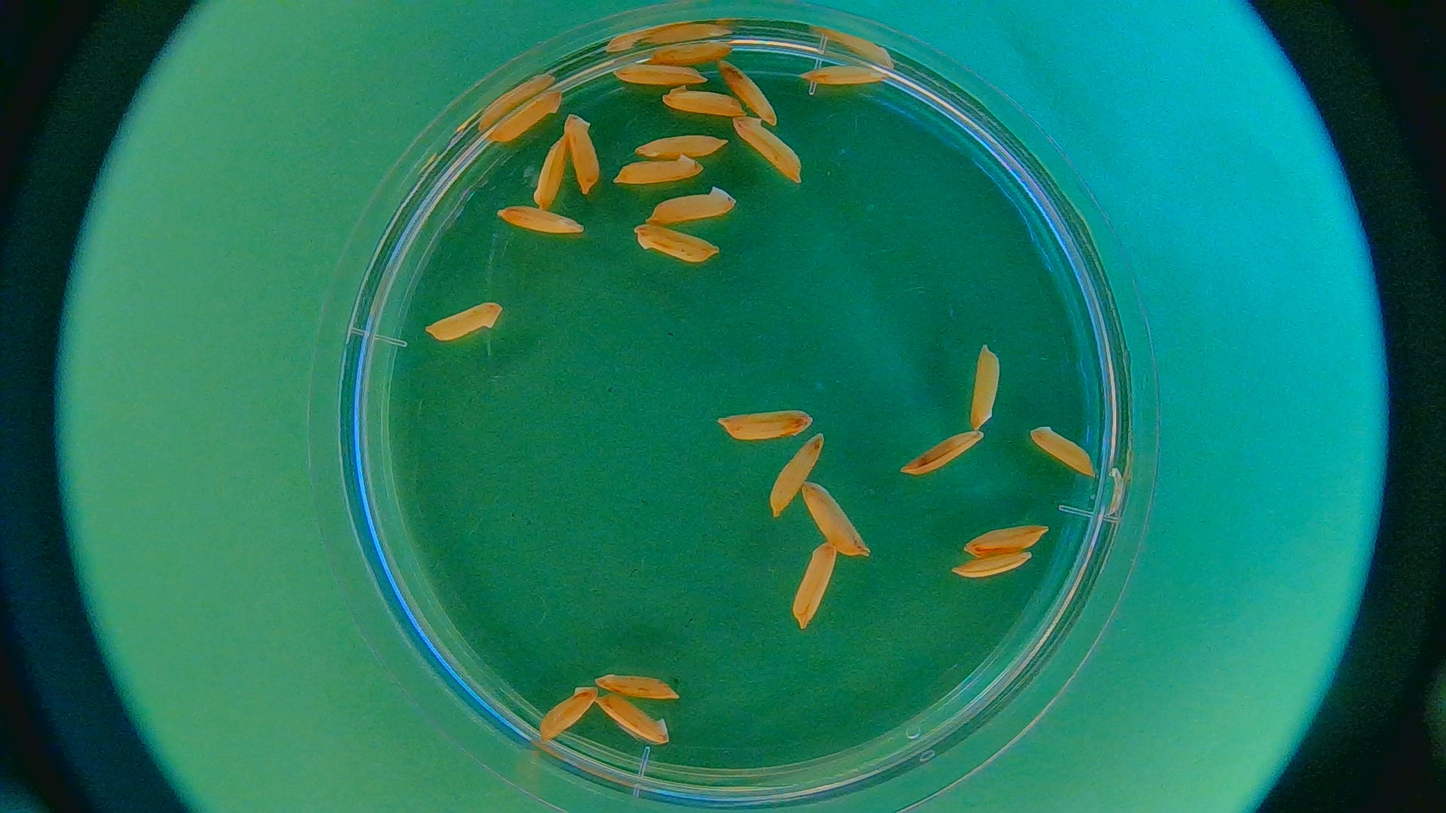no: (798, 477, 869, 559), (725, 111, 803, 184), (766, 432, 827, 513), (480, 89, 563, 145), (785, 540, 839, 626), (587, 693, 669, 747), (895, 428, 984, 477), (716, 56, 777, 127), (1021, 425, 1099, 480), (552, 111, 602, 193), (534, 687, 601, 746), (418, 300, 507, 344), (628, 224, 722, 265), (488, 201, 583, 241), (715, 404, 816, 441), (647, 187, 737, 227), (963, 340, 1002, 431), (628, 132, 733, 163), (612, 154, 704, 188), (800, 63, 899, 92), (606, 60, 707, 87), (963, 525, 1049, 556), (535, 132, 568, 212), (591, 671, 679, 701), (645, 38, 738, 66), (660, 87, 746, 117), (946, 550, 1034, 578)
